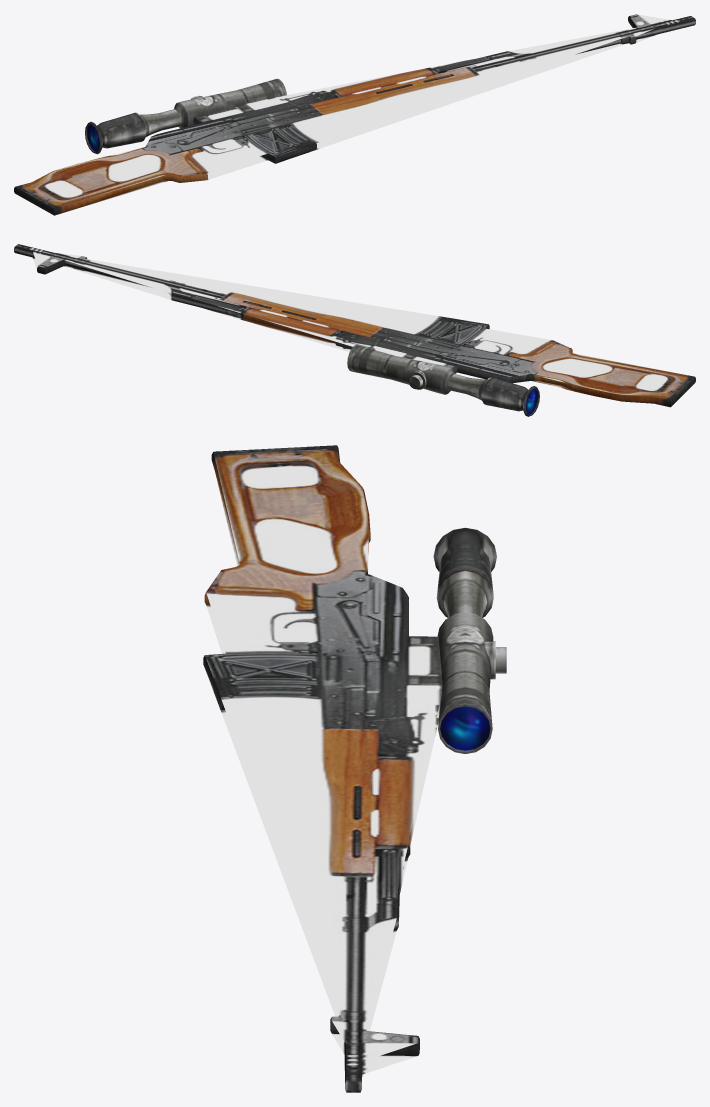
File: svd.FBX
The picture shows the model from 3 angles, top to bottom: view 1: azimuth 30°, elevation 25°; view 2: azimuth 150°, elevation 25°; view 3: azimuth 270°, elevation 25°; orthographic projection. The views are drawn at different scales.
Visible parts, largest first — view 1: svd; view 2: svd; view 3: svd.
Part boxes in pixels (box(x1,y1,x2,y2)): svd: box(14, 14, 695, 215); svd: box(14, 244, 695, 416); svd: box(203, 445, 506, 1092).
Size of the model in its own units: 792 by 160 by 33.48.
Materials: 1 (1 with a texture image).
